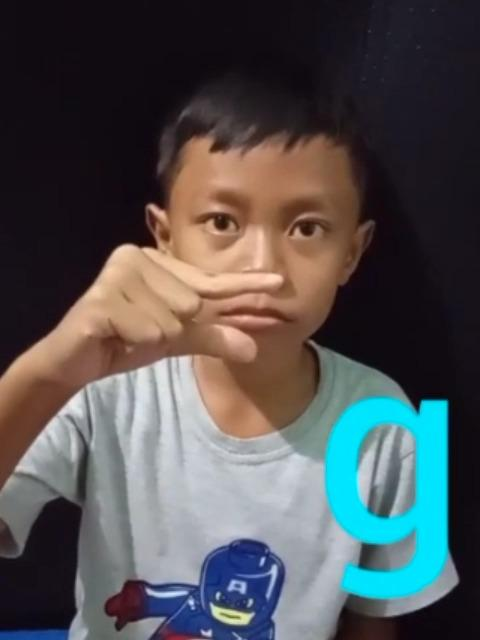G: (28, 237, 284, 395)
